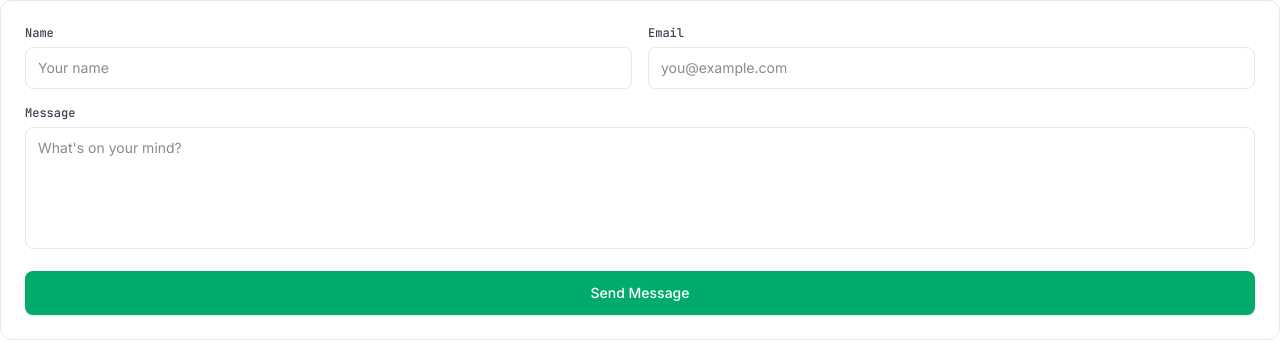
Test: ContactForm › shows success message after submitting valid form
Type "John Doe" into the field labelled "Name" at [328, 68], box [25, 47, 632, 89]
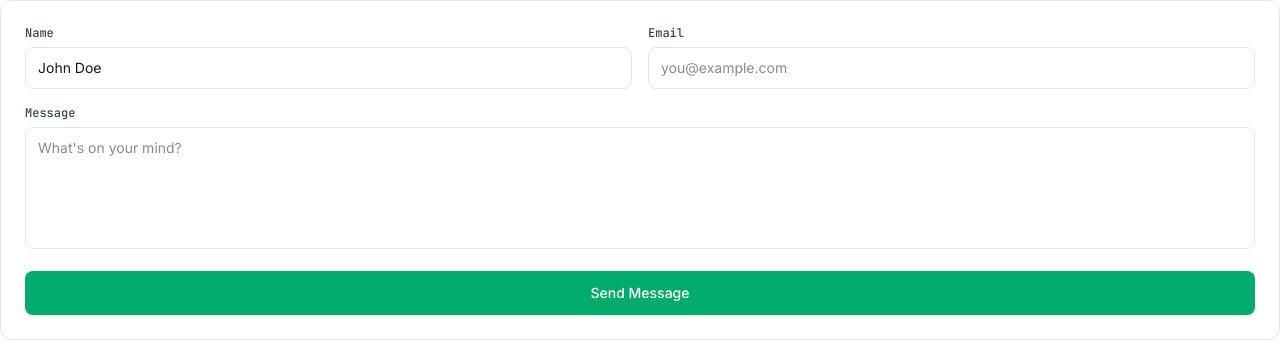
Type "john@example.com" into the field labelled "Email" at [952, 68], box [648, 47, 1255, 89]
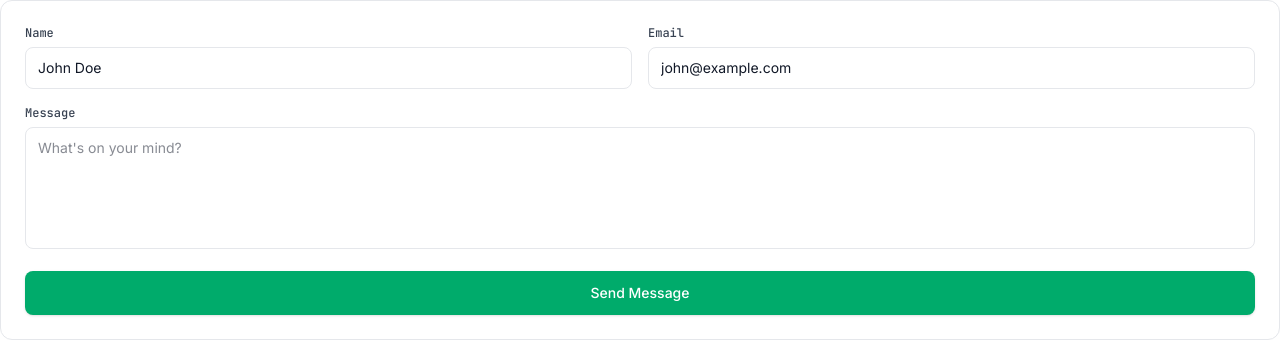
Type "Hello bas!" into the text box labelled "Message" at [640, 188], box [25, 127, 1255, 249]
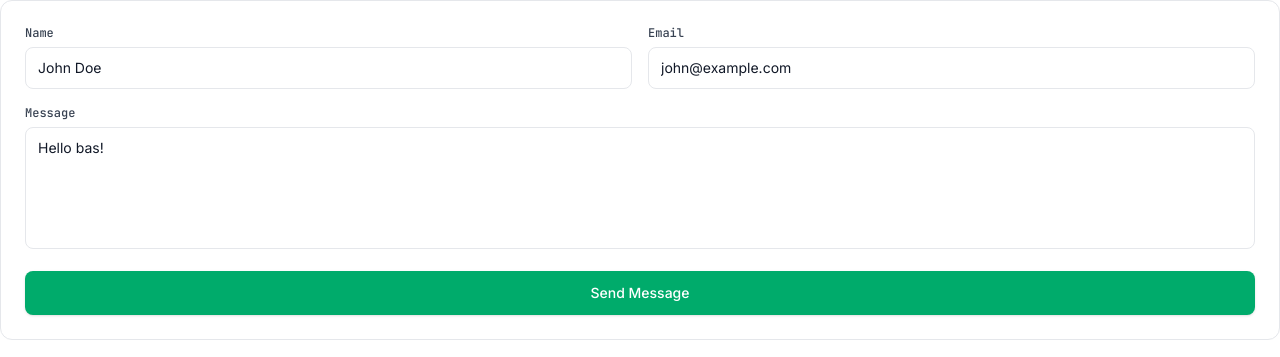
Click the button "Send Message" at [640, 293], box [25, 271, 1255, 315]
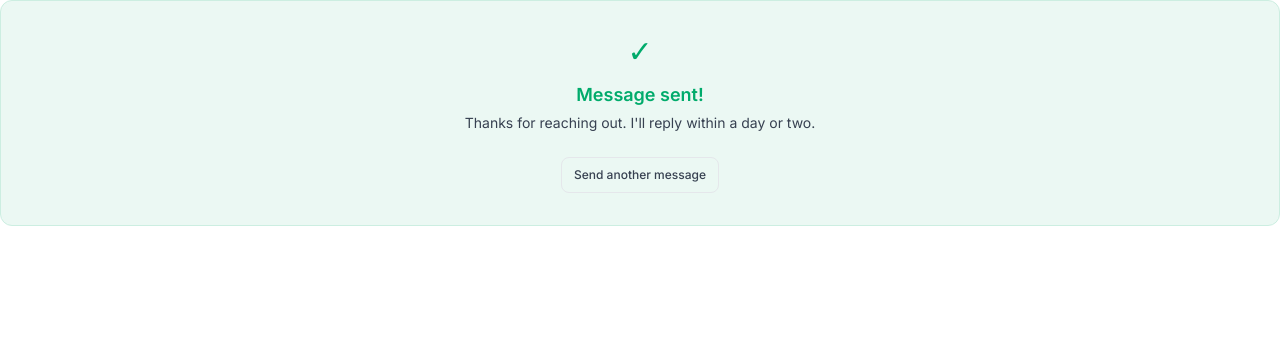
Result: the element with test id "contact-submitted" is shown
Result: the heading "Message sent!" is shown at [576, 84, 704, 105]
